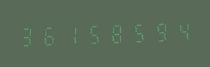eight: (105, 19, 126, 46)
five: (83, 20, 104, 47), (127, 19, 148, 45)
four: (171, 17, 192, 43)
nine: (149, 18, 170, 44)
one: (61, 21, 82, 47)
six: (39, 22, 60, 48)
three: (17, 23, 38, 49)
